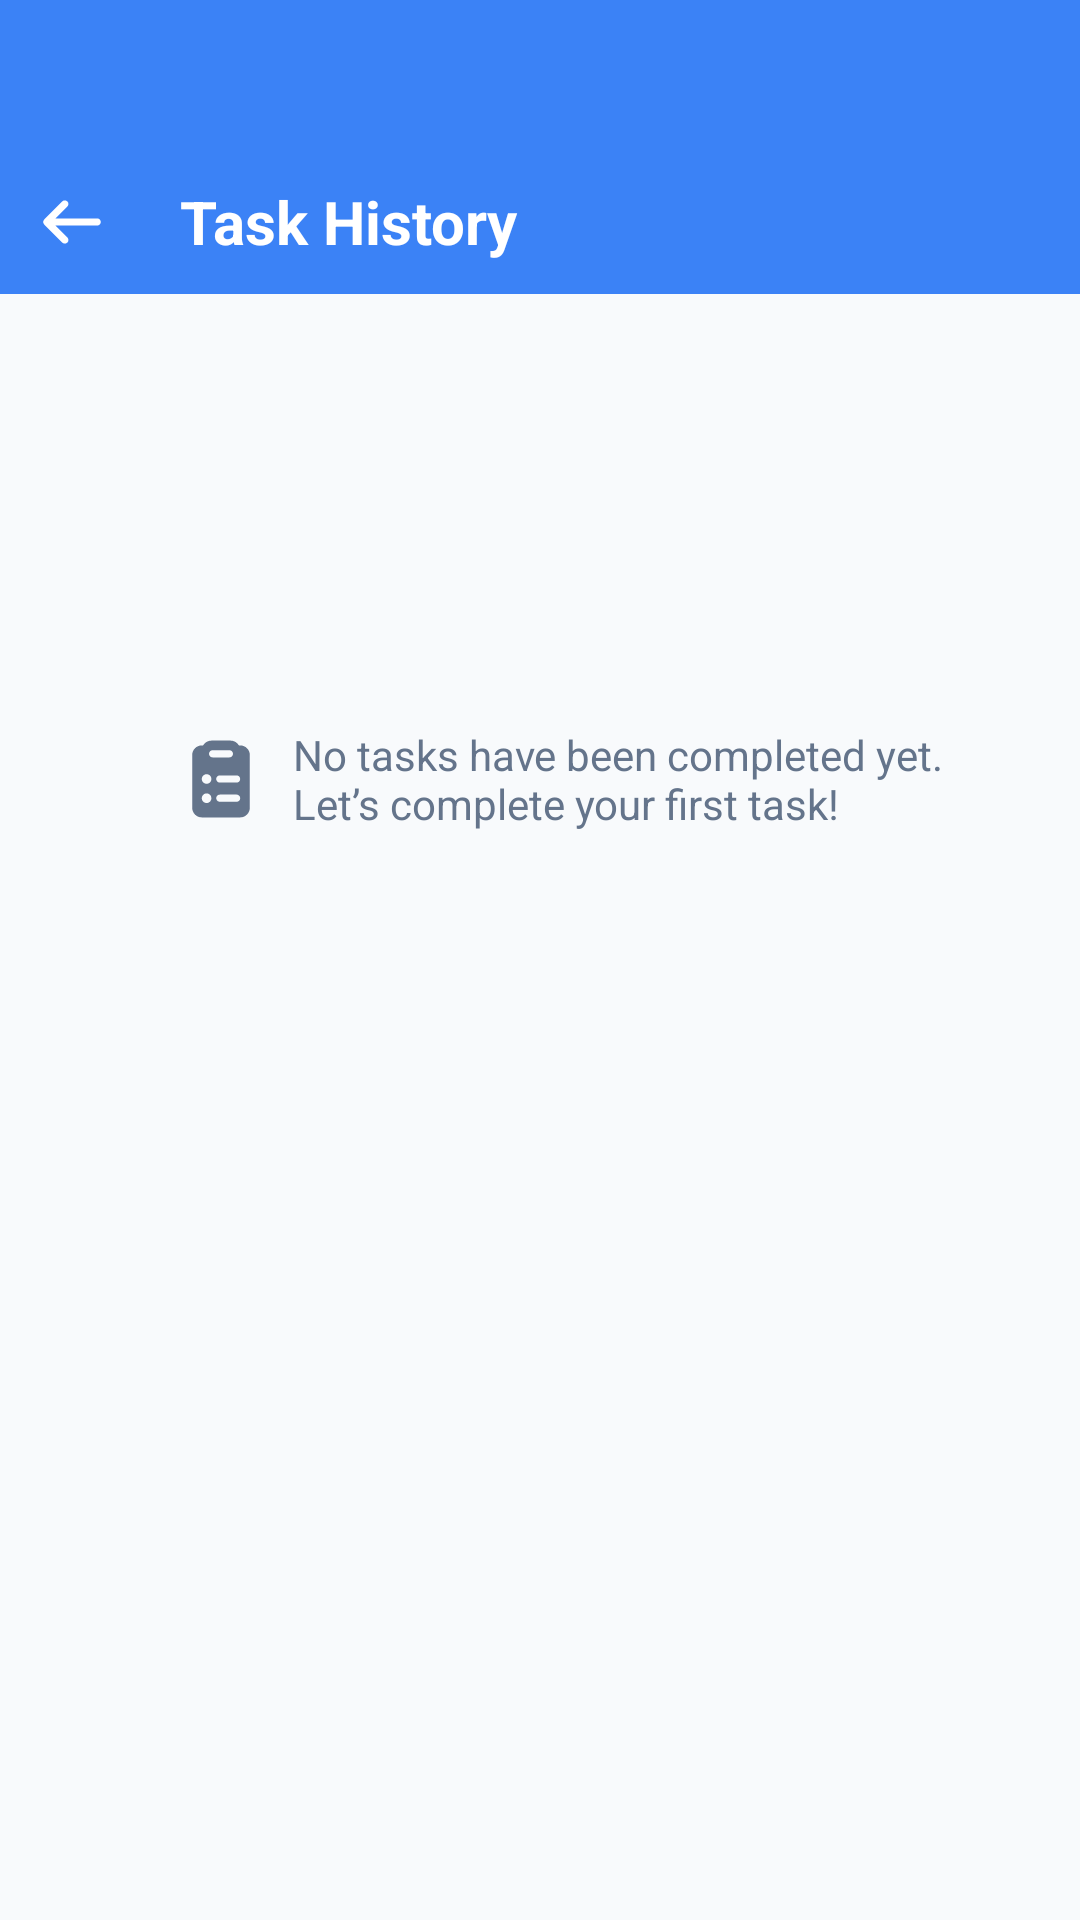

Icon bounding boxes for this 1080w x 1920h phone screenshot, format box=[x1, y1, x2, y2]:
Back Task List: box=[43, 200, 101, 244]
clipboard list full: box=[192, 740, 250, 818]
